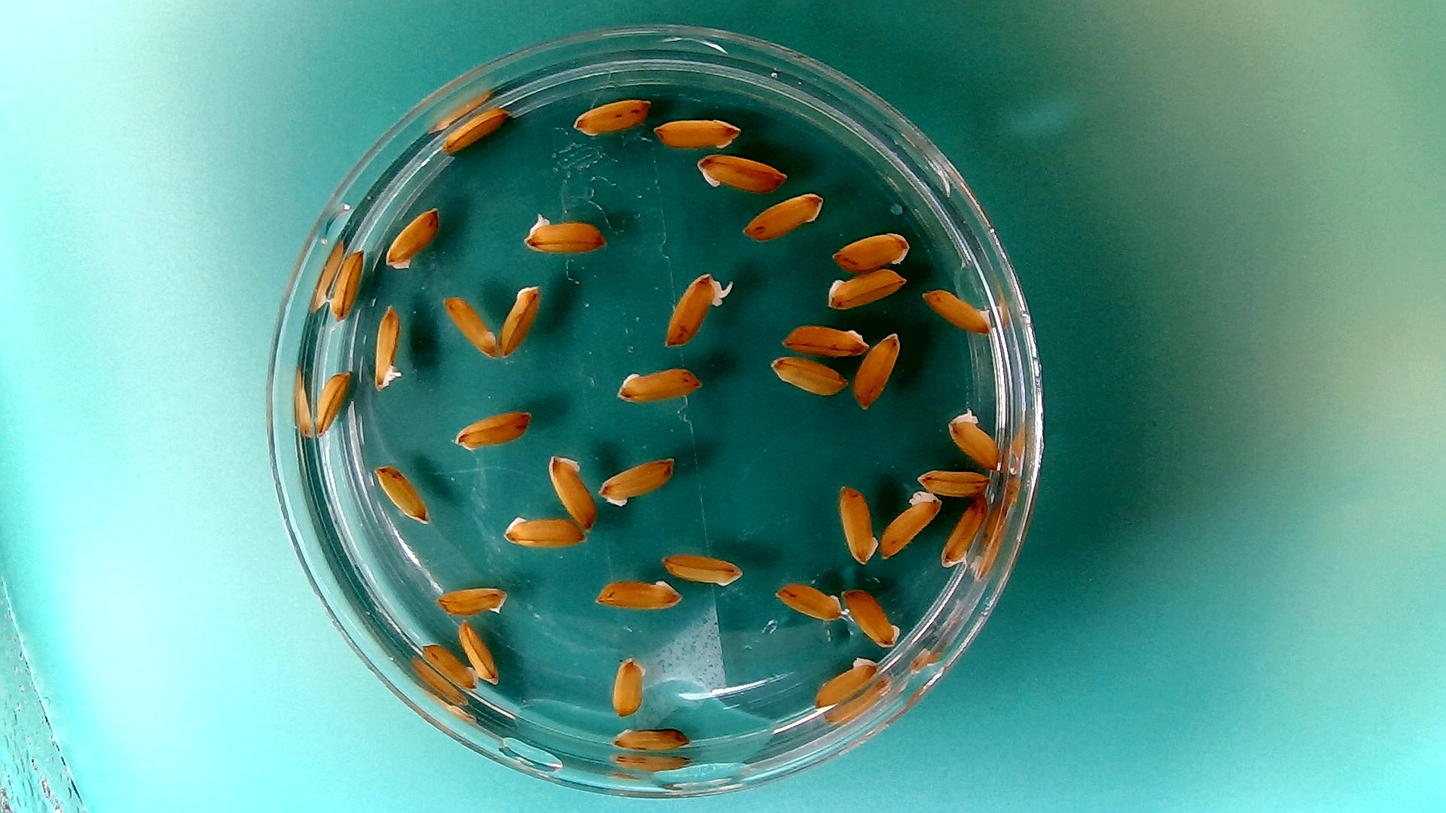no: (877, 487, 944, 561), (595, 453, 679, 509), (740, 189, 827, 243), (773, 314, 877, 359), (693, 149, 789, 196), (545, 450, 599, 531), (851, 327, 903, 411), (439, 290, 500, 360), (839, 584, 905, 648), (937, 493, 991, 571), (612, 360, 705, 405), (370, 460, 434, 525), (835, 479, 881, 568), (808, 654, 881, 710), (382, 203, 440, 273), (919, 284, 996, 336), (450, 405, 535, 452), (820, 266, 907, 311), (497, 279, 545, 360), (569, 93, 653, 139), (590, 573, 683, 614), (498, 510, 588, 552), (440, 101, 512, 153), (651, 111, 743, 151), (829, 227, 912, 271), (657, 547, 746, 588), (766, 353, 848, 396), (417, 638, 480, 693), (771, 577, 846, 623), (326, 245, 368, 325), (454, 617, 502, 687), (312, 364, 355, 438), (432, 581, 511, 619), (606, 720, 694, 754), (905, 464, 989, 498), (608, 653, 648, 719)
yes: (659, 266, 732, 350), (517, 206, 609, 254), (944, 404, 1005, 470), (369, 300, 405, 393)
